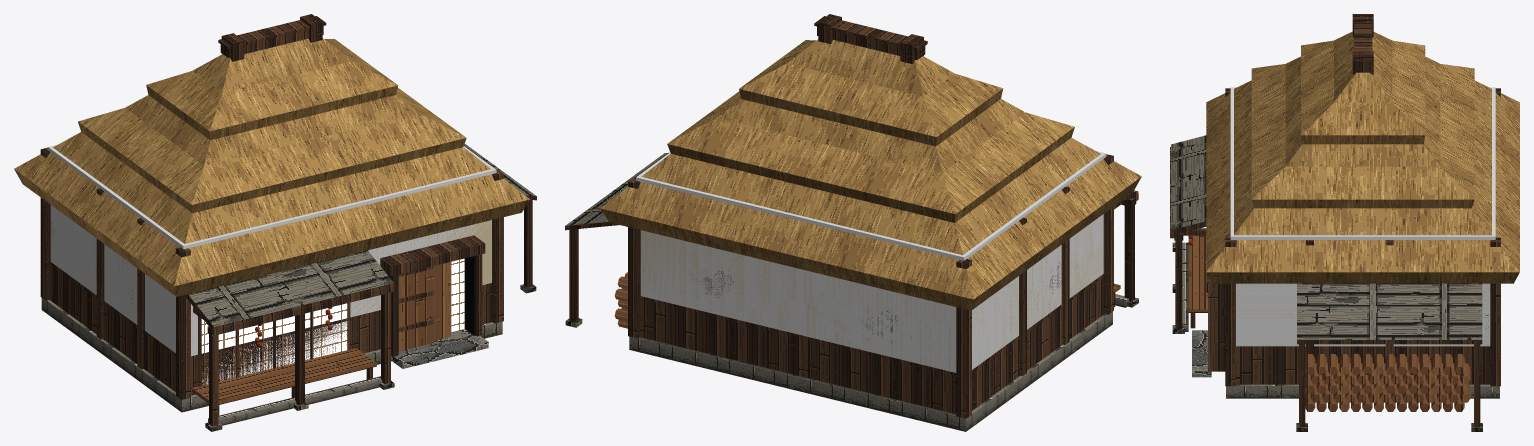
Rendered from JP_Farm_Minka_C.glb.
3 views of the same model, side by side, from view 1: azimuth 30°, elevation 25°; view 2: azimuth 150°, elevation 25°; view 3: azimuth 270°, elevation 25° (orthographic). The views are drawn at different scales.
Parts seen in each view (by area): view 1: JP_Farm_Minka_C, COL_JP_Farm_Minka_C; view 2: JP_Farm_Minka_C, COL_JP_Farm_Minka_C; view 3: JP_Farm_Minka_C, COL_JP_Farm_Minka_C.
Part boxes in pixels (x1=…): JP_Farm_Minka_C: x1=14, y1=14, x2=536, y2=431; COL_JP_Farm_Minka_C: x1=48, y1=144, x2=496, y2=356; JP_Farm_Minka_C: x1=565, y1=14, x2=1141, y2=431; COL_JP_Farm_Minka_C: x1=636, y1=151, x2=1106, y2=372; JP_Farm_Minka_C: x1=1170, y1=14, x2=1519, y2=431; COL_JP_Farm_Minka_C: x1=1230, y1=87, x2=1495, y2=346.
Bounding box in the file's own units: 10.45 × 7.16 × 7.92.
15 materials, 15 textured.
